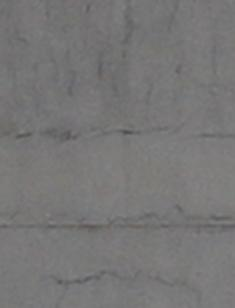fissura: (17, 193, 235, 251), (3, 113, 202, 148), (41, 265, 186, 297)
